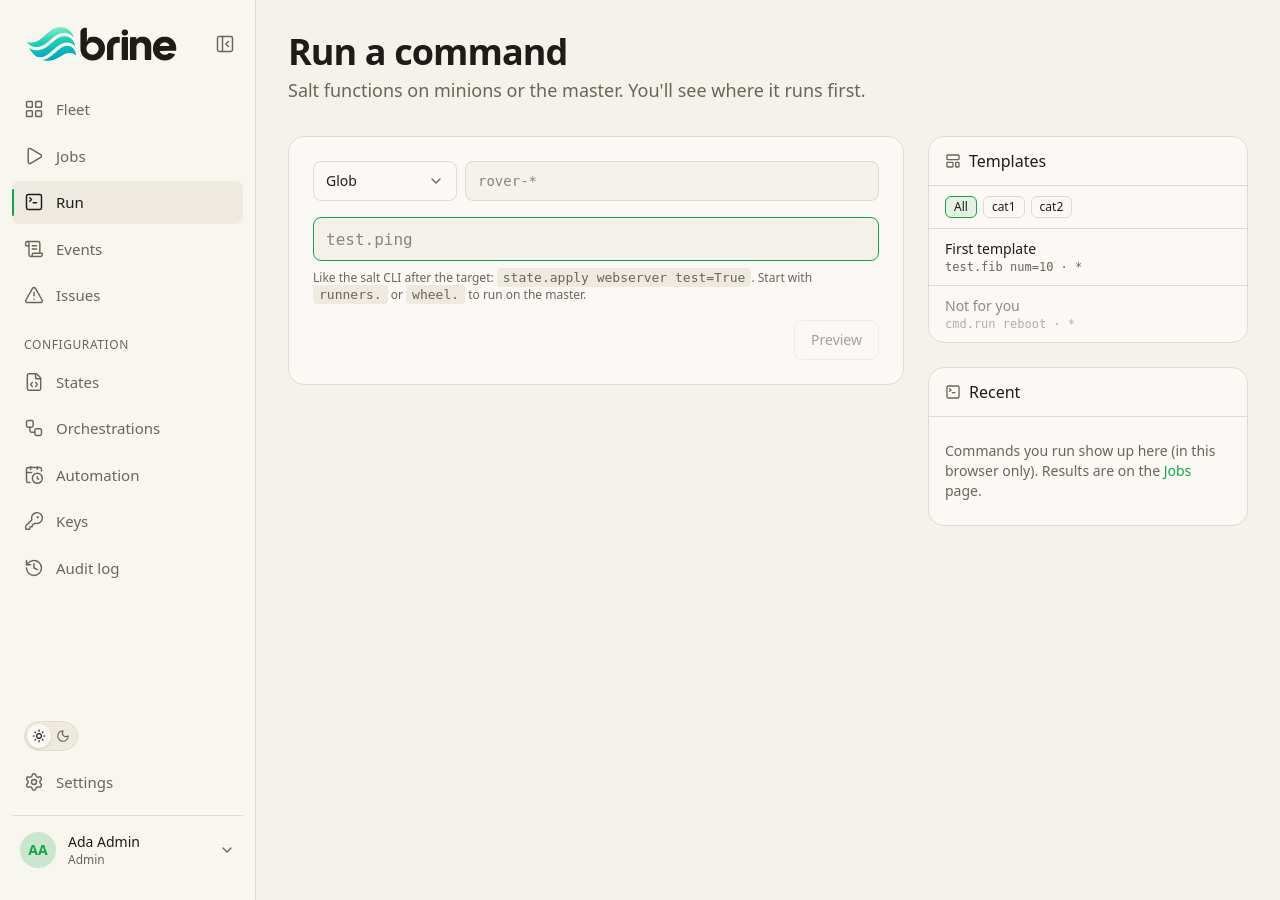
it: templates on the Run page › fills in and previews a template, by category
This screenshot has width=1280, height=900.
Expected: the button "Not for you cmd.run reboot · *" is disabled, [929,286,1247,342]
Click the tab "cat1" at point(1004, 207), box [983,196,1025,218]
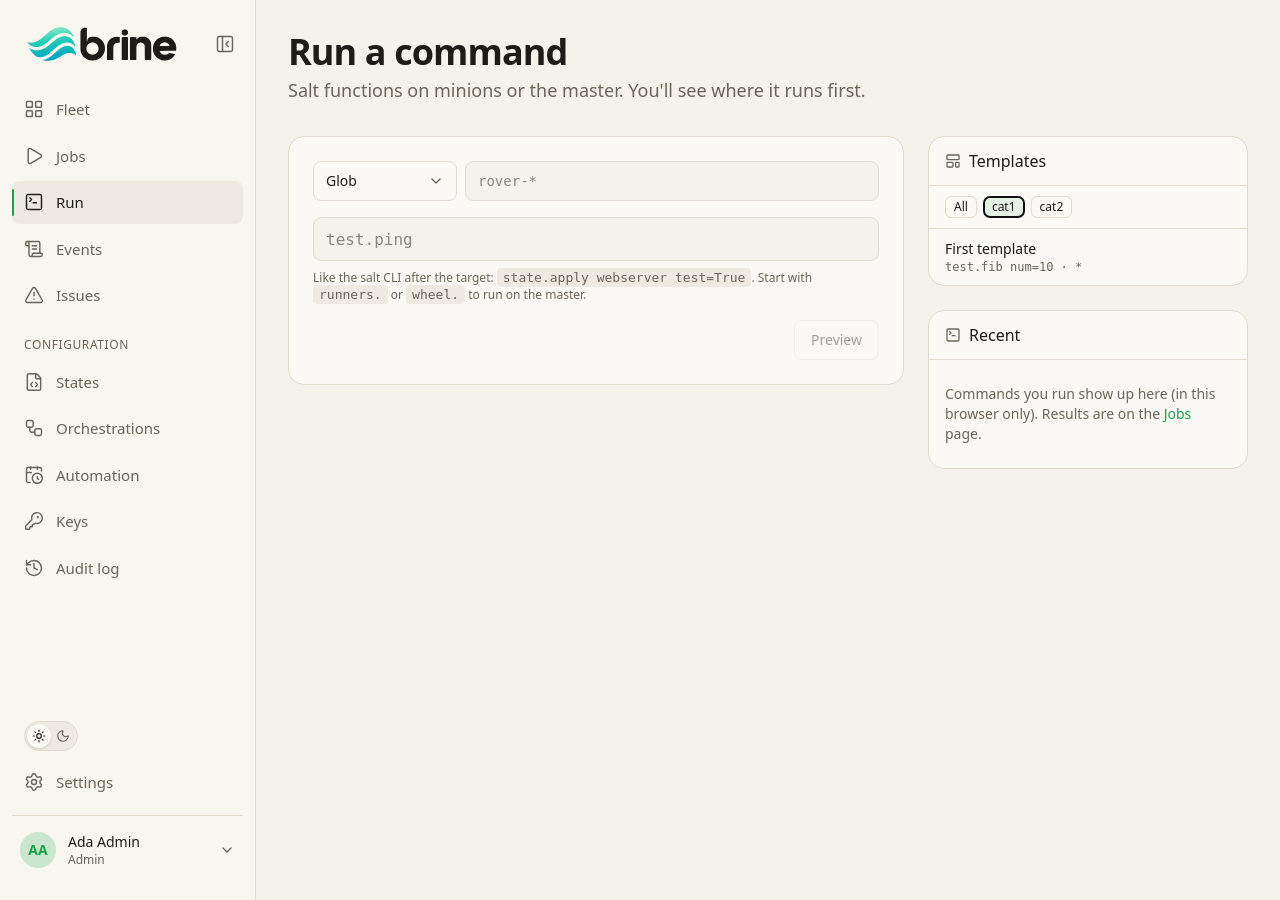
Now the button "Not for you" is gone
Click the button "First template test.fib num=10 · *" at point(991, 248), box [929,229,1247,285]
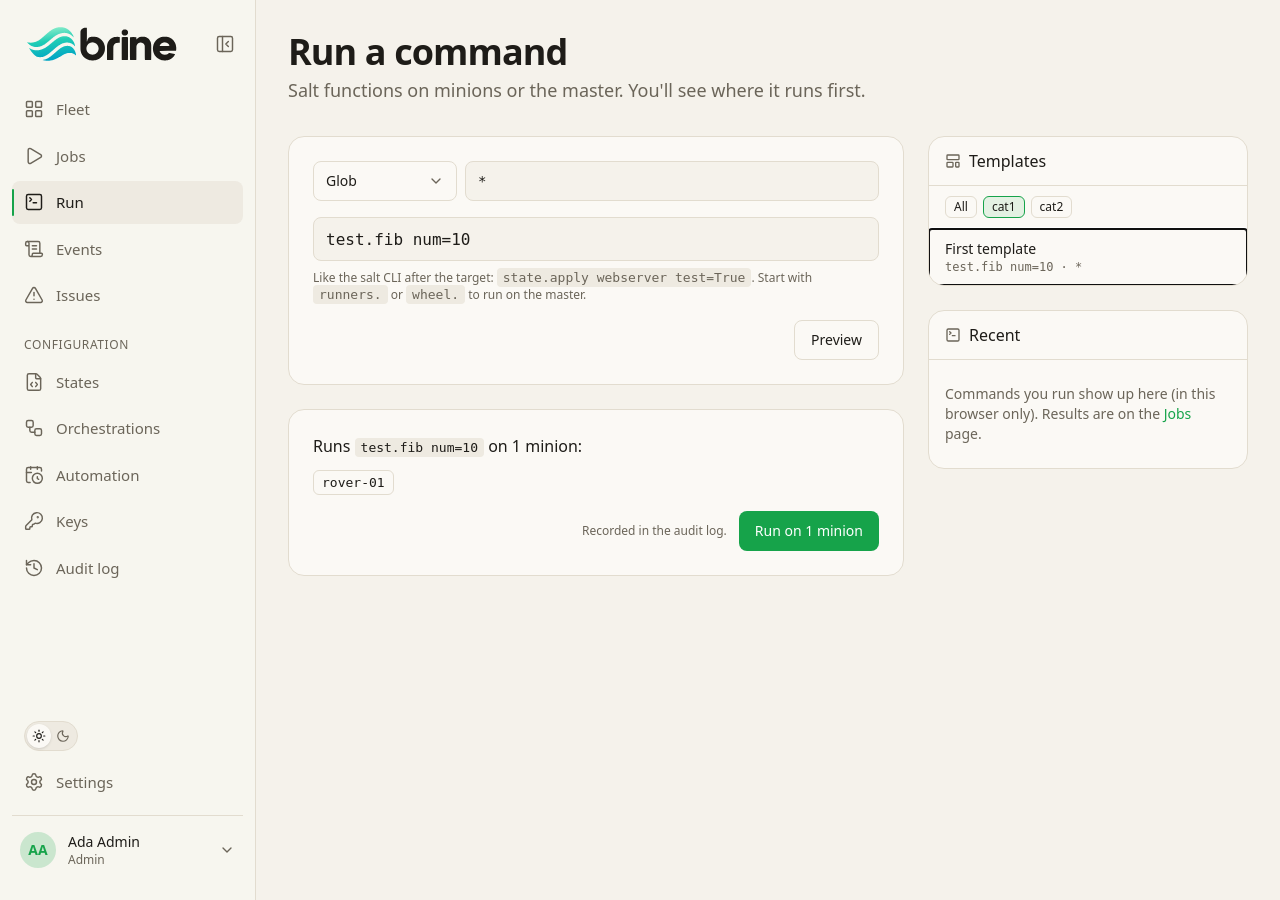
Now the field named "Command" holds "test.fib num=10", box [313,217,879,261]
Now the button "Run on 1 minion" is shown, box [739,511,879,551]
